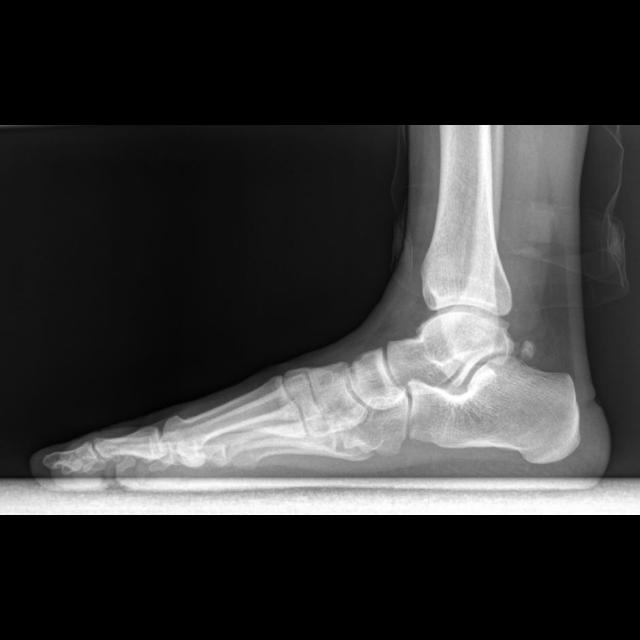a: (407, 356, 582, 464)
b: (352, 349, 405, 412)
c: (162, 374, 309, 457)
